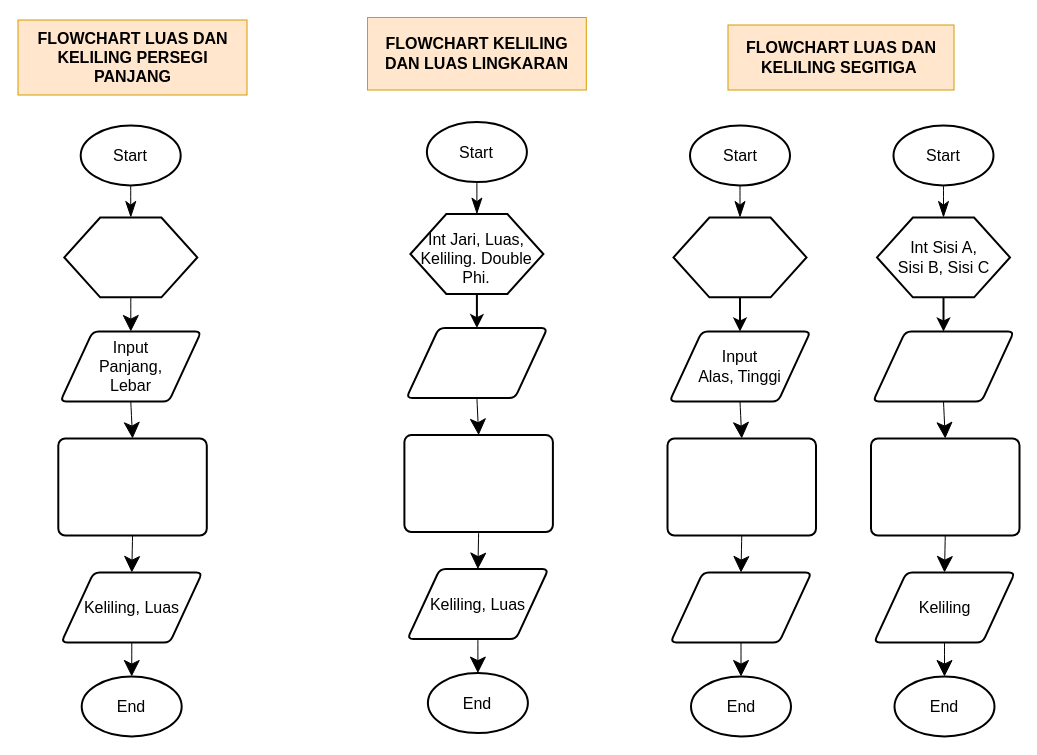
This 1037x755 diagram has some shape labels left out. The box of each missing label's shape, as (x1, y1, x2, y2) in pixels:
Input Phi, Jari-Jari: (405, 327, 548, 399)
Input Sisi A, B, C: (872, 330, 1014, 402)
Int Alas, Tinggi, Luas: (672, 216, 807, 298)
Int Panjang, Lebar, Keliling, Luas: (63, 216, 198, 298)
Keliling = 2 * (Panjang + Lebar) Luas = Panjang * Lebar: (57, 437, 207, 536)
Keliling = Sisi A + B + C: (870, 437, 1020, 536)
Luas: (669, 571, 812, 643)
Luas : Alas * Tinggi: (666, 437, 816, 536)
Luas = Phi * Jari-Jari * Jari-Jari Keliling = 2 * Phi * Jari-Jari: (403, 434, 553, 533)
